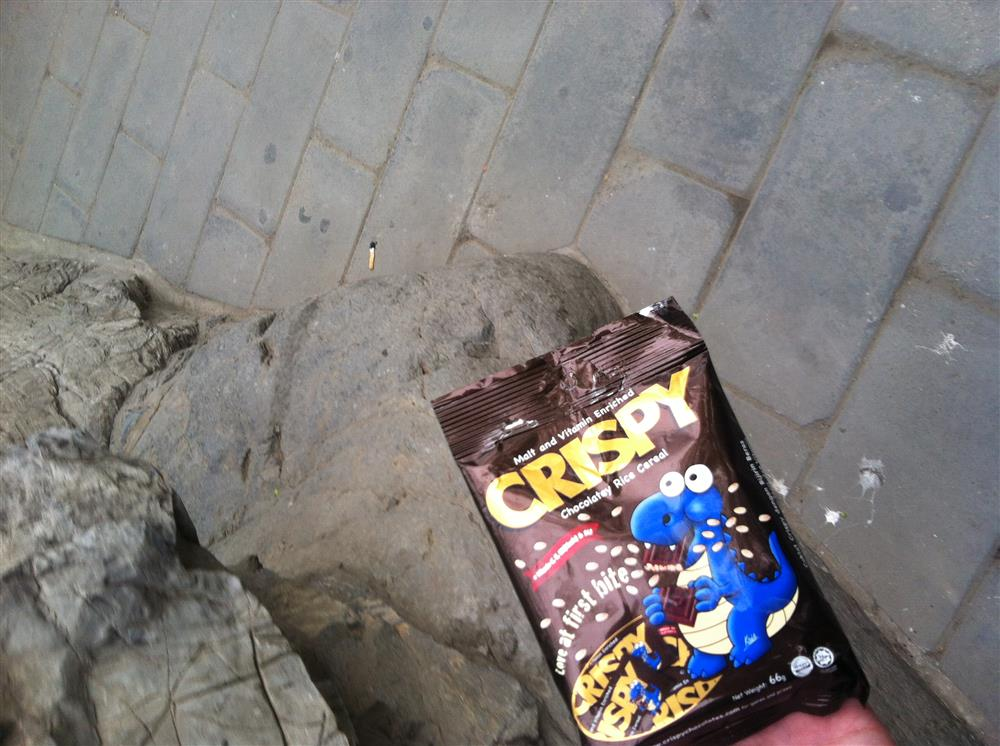CRISPY: (429, 296, 870, 738)
